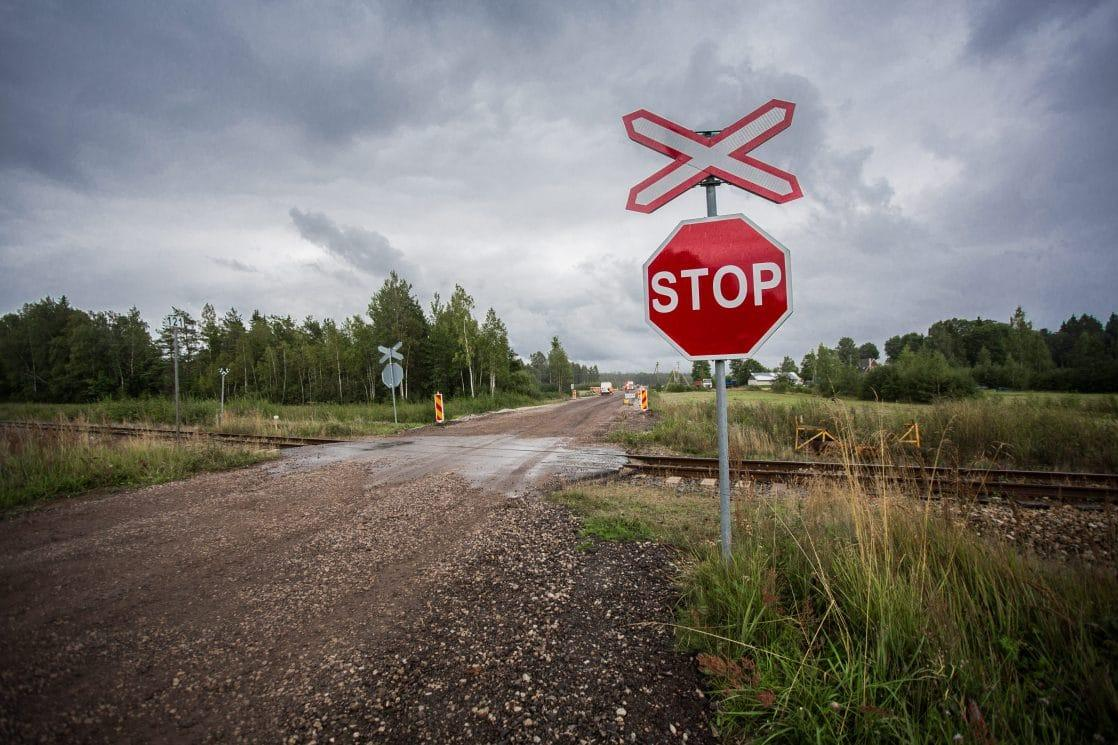traffic sign: (587, 97, 854, 591), (358, 328, 439, 444)
